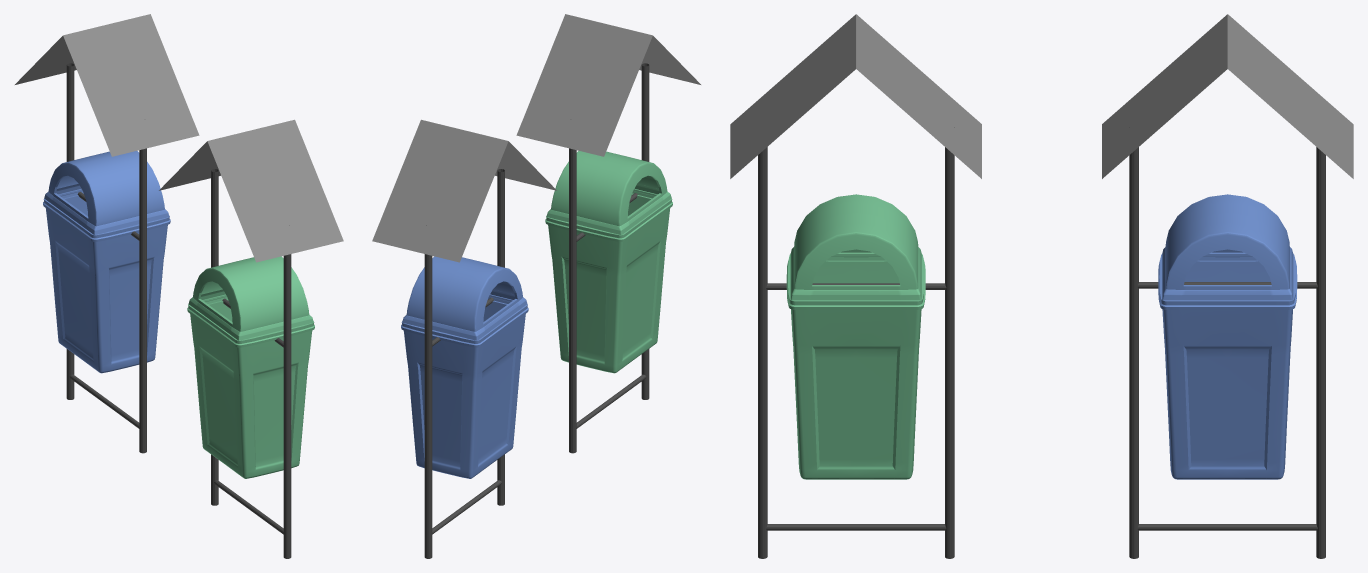
File: Dustbin.fbx
3 views of the same model, side by side, from view 1: azimuth 30°, elevation 25°; view 2: azimuth 150°, elevation 25°; view 3: azimuth 270°, elevation 25° (orthographic). The views are drawn at different scales.
Visible parts, largest first — view 1: pCube17, pCylinder12 (×2); view 2: pCube17, pCylinder12 (×2); view 3: pCube17, pCylinder12 (×2).
Part boxes in pixels (x1,y1,x2,y2): pCube17: (15, 14, 343, 558); pCylinder12 (×2): (69, 374, 283, 534); pCube17: (372, 14, 700, 558); pCylinder12 (×2): (432, 374, 646, 534); pCube17: (730, 14, 1353, 558); pCylinder12 (×2): (766, 524, 1317, 530).
Bounding box in the file's own units: 2.11 × 9.21 × 10.09.
